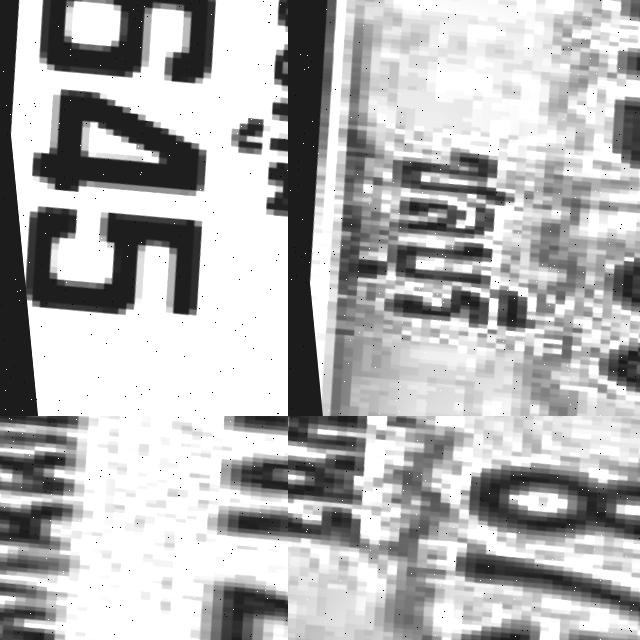license-plate: (288, 0, 640, 416), (0, 0, 288, 416), (288, 416, 640, 640), (0, 416, 288, 640)
